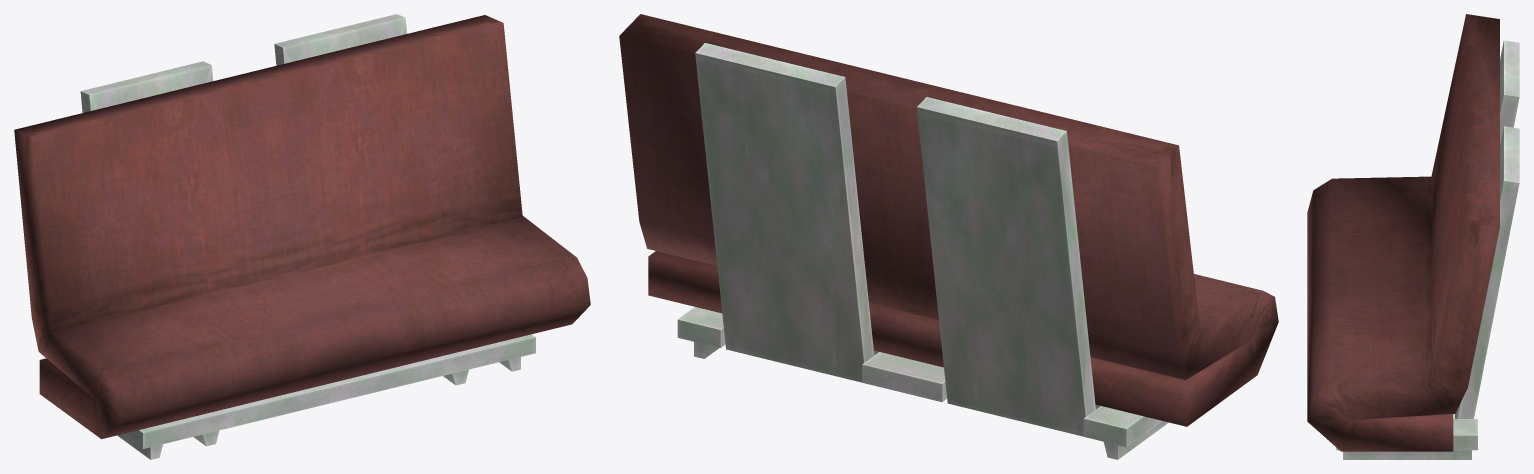
Rendered from frn_all_couch_futon_s1_l1.fbx.
3 renders of one model, left to right at view 1: azimuth 30°, elevation 25°; view 2: azimuth 150°, elevation 25°; view 3: azimuth 270°, elevation 25°, orthographic. The views are drawn at different scales.
Visible parts, largest first — view 1: mesh_node; view 2: mesh_node; view 3: mesh_node.
Part boxes in pixels (box(x1,y1,x2,y2)): mesh_node: box(14, 14, 590, 459); mesh_node: box(619, 14, 1278, 459); mesh_node: box(1307, 14, 1519, 459).
Bounding box in the file's own units: 2 × 1.19 × 0.8562.
